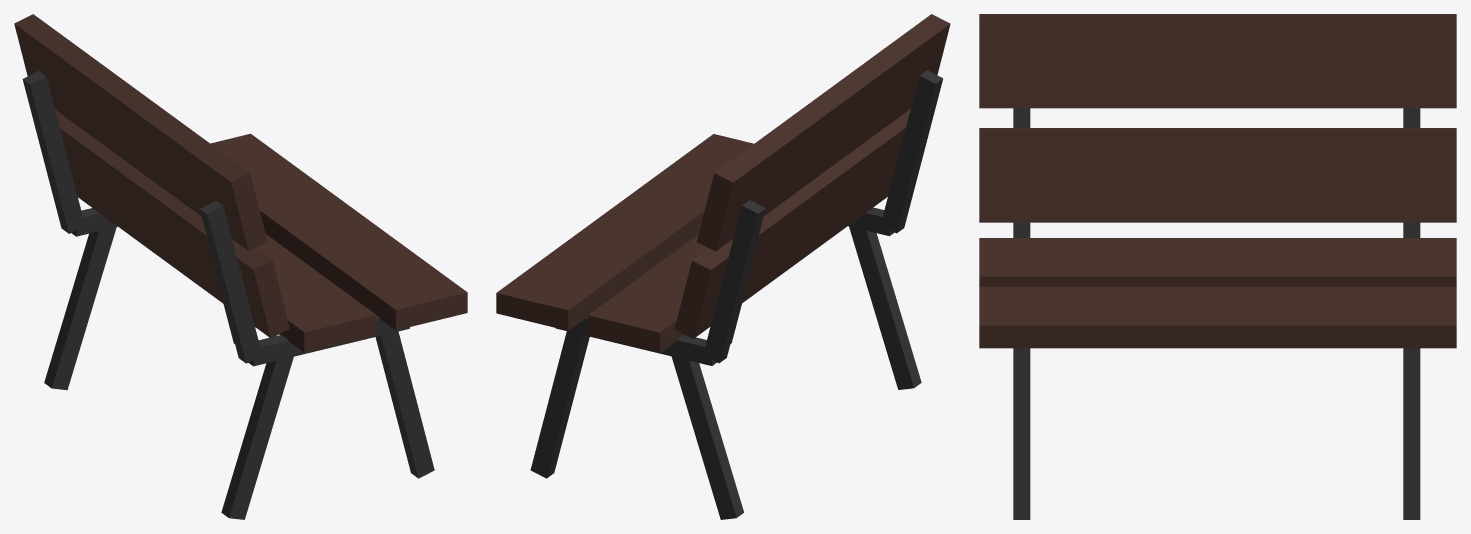
The model's file is bench.glb.
3 views of the same model, side by side, from view 1: azimuth 30°, elevation 25°; view 2: azimuth 150°, elevation 25°; view 3: azimuth 270°, elevation 25° (orthographic). The views are drawn at different scales.
Parts seen in each view (by area): view 1: Cube.011; view 2: Cube.011; view 3: Cube.011.
Part boxes in pixels (<box>): Cube.011: <box>14,14,467,519</box>; Cube.011: <box>496,14,950,519</box>; Cube.011: <box>979,14,1456,519</box>.
Bounding box in the file's own units: 2.6 × 3.68 × 3.99.
